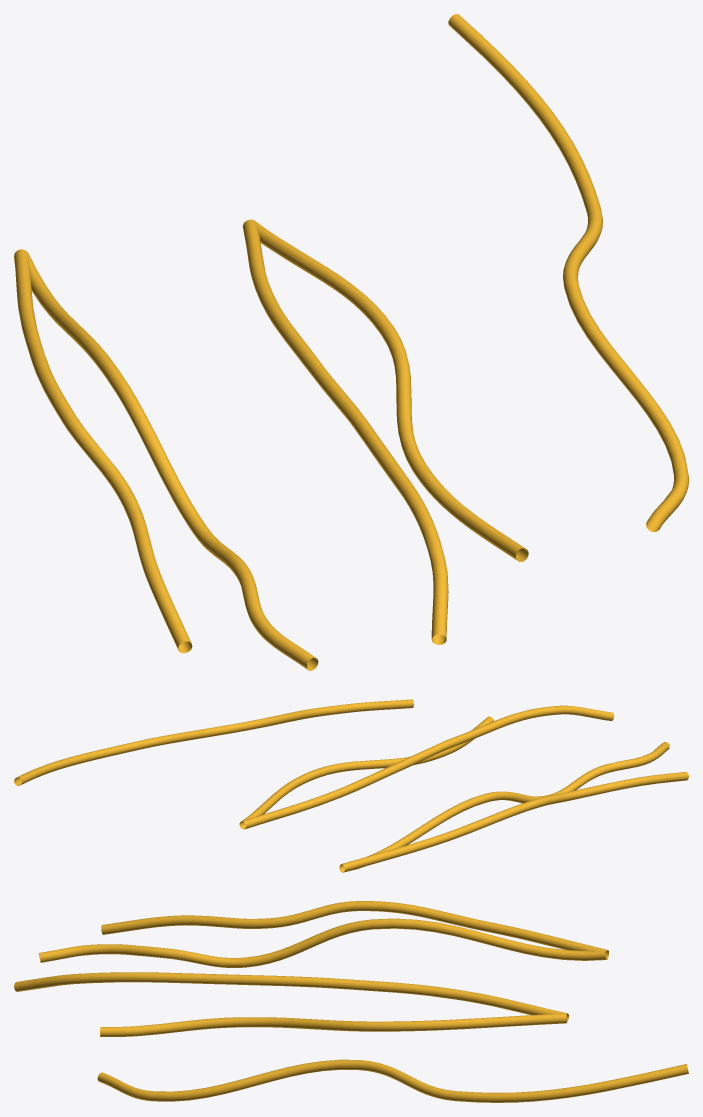
File: nervoso-proper-plantar-digital-branches-of-medial-plantar-nerve-r.glb
The picture shows the model from 3 angles, top to bottom: view 1: azimuth 30°, elevation 25°; view 2: azimuth 150°, elevation 25°; view 3: azimuth 270°, elevation 25°; orthographic projection. The views are drawn at different scales.
Visible parts, largest first — view 1: Proper plantar digital branches of medial plantar nerve.r; view 2: Proper plantar digital branches of medial plantar nerve.r; view 3: Proper plantar digital branches of medial plantar nerve.r.
Part boxes in pixels (x1=…): Proper plantar digital branches of medial plantar nerve.r: x1=14, y1=14, x2=688, y2=670; Proper plantar digital branches of medial plantar nerve.r: x1=14, y1=699, x2=688, y2=872; Proper plantar digital branches of medial plantar nerve.r: x1=14, y1=901, x2=688, y2=1102.
Bounding box in the file's own units: 0.0554 × 0.0112 × 0.0665.
